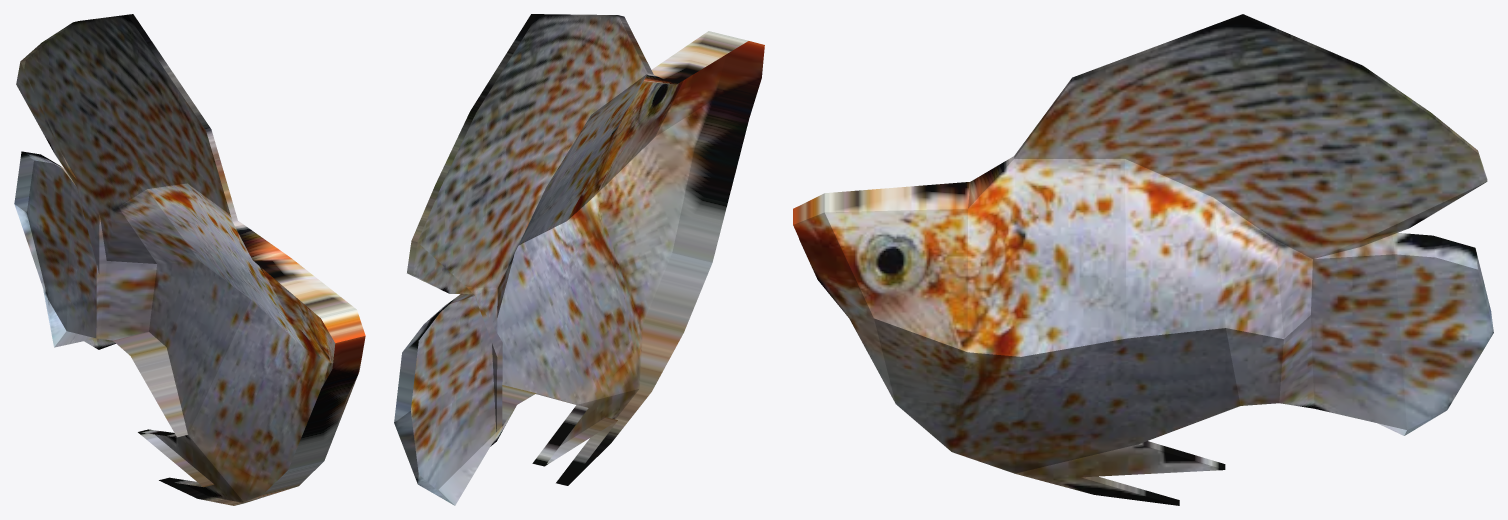
Rendered from short_molly.glb.
3 renders of one model, left to right at view 1: azimuth 30°, elevation 25°; view 2: azimuth 150°, elevation 25°; view 3: azimuth 270°, elevation 25°, orthographic. The views are drawn at different scales.
Parts seen in each view (by area): view 1: Plane; view 2: Plane; view 3: Plane.
Boxes of the visible parts, x1=… form: Plane: x1=14, y1=14, x2=365, y2=505; Plane: x1=394, y1=14, x2=764, y2=505; Plane: x1=793, y1=14, x2=1493, y2=505.
Size of the model in its own units: 0.7855 by 4.45 by 5.83.
1 material, 1 textured.
